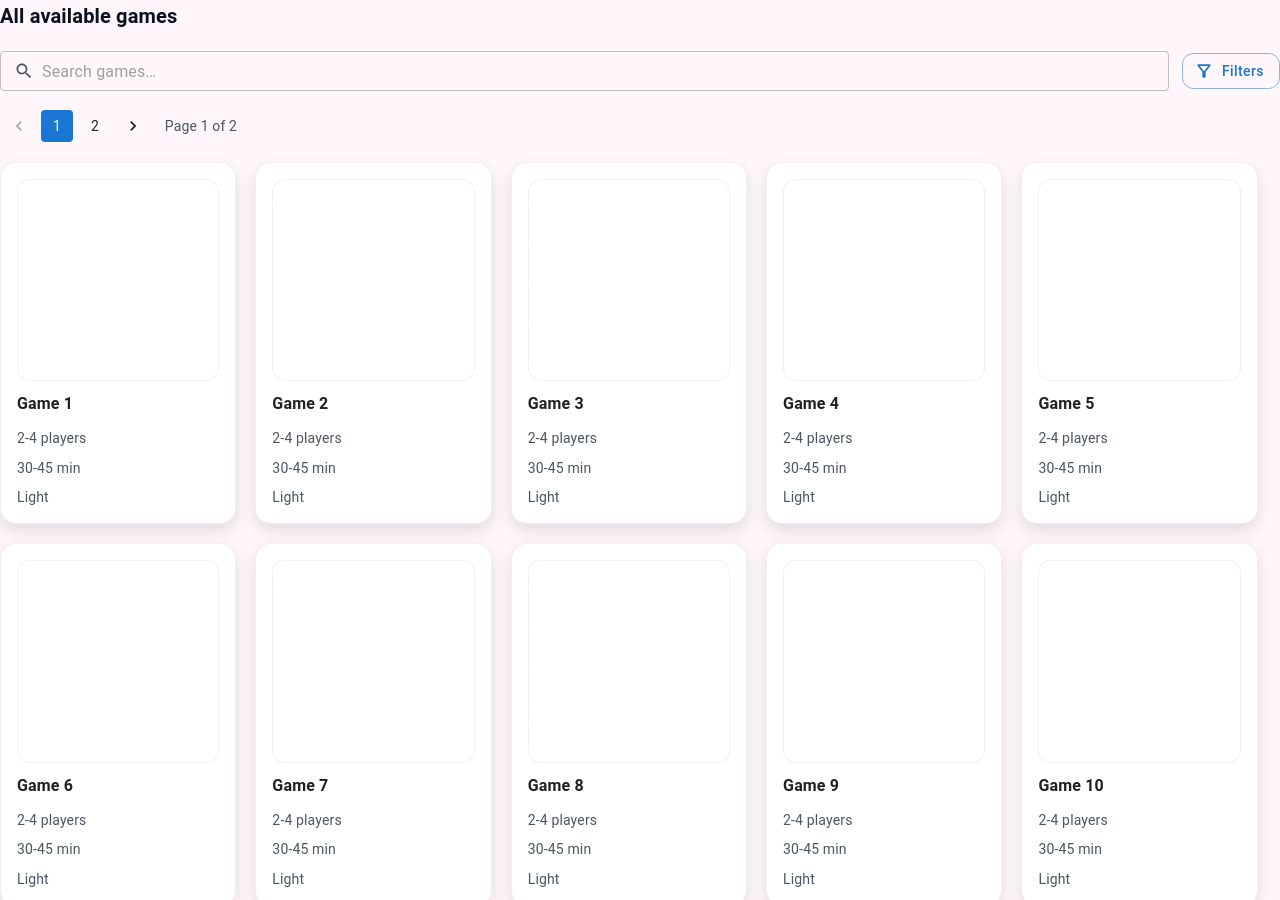
Test case: GameListGrid › pagination resets to page 1 when results shrink
Expected: the text "Page 1 of 2" is shown, [165, 116, 237, 136]
Click the button named "Go to page 2".
click(95, 126)  # box [79, 110, 111, 142]
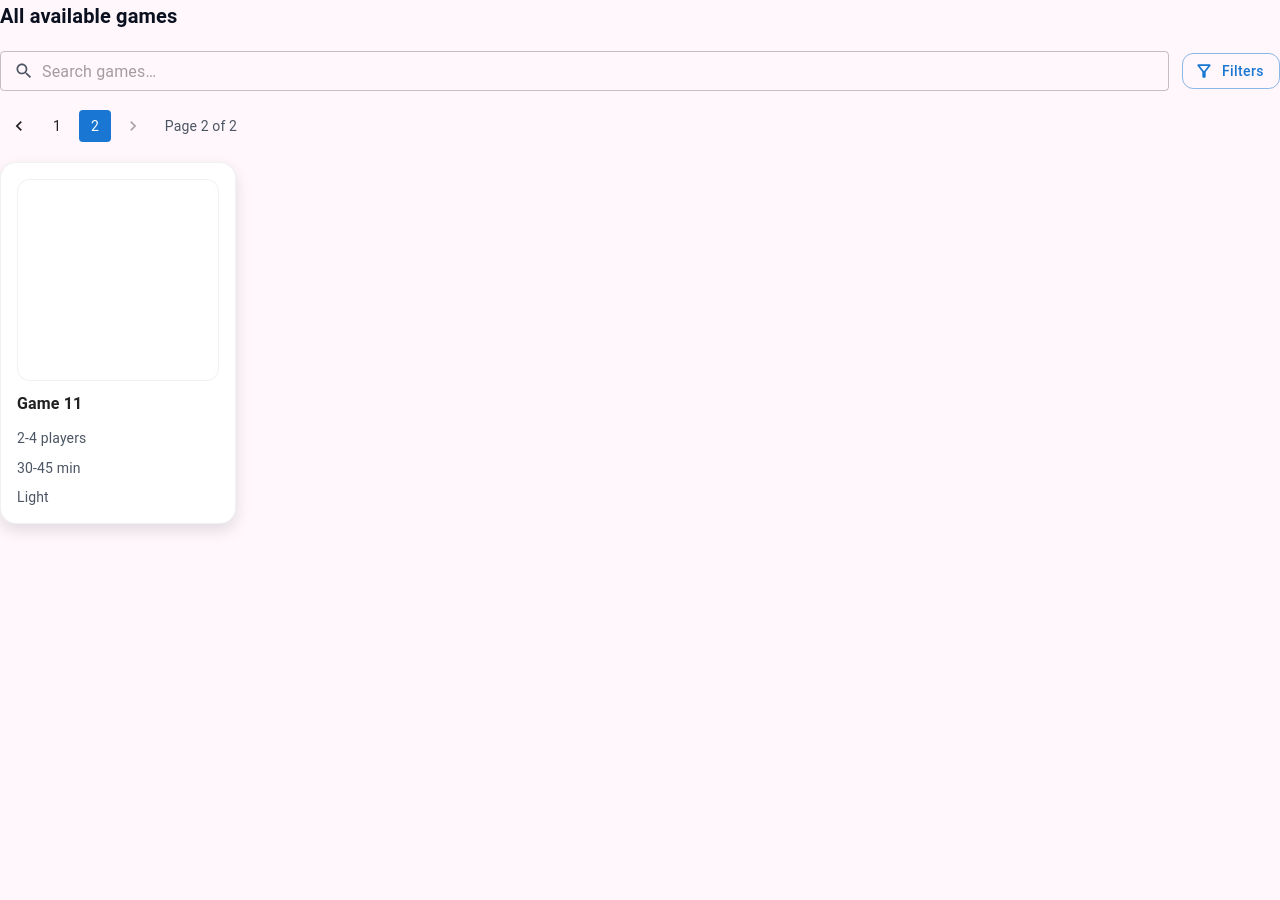
Result: the text "Page 2 of 2" is shown at [165, 116, 237, 136]
Type "Game 1" into the field with placeholder "Search games…".
click(606, 71); type("Game 1")  # box [42, 51, 1169, 91]
Wait 350 ms
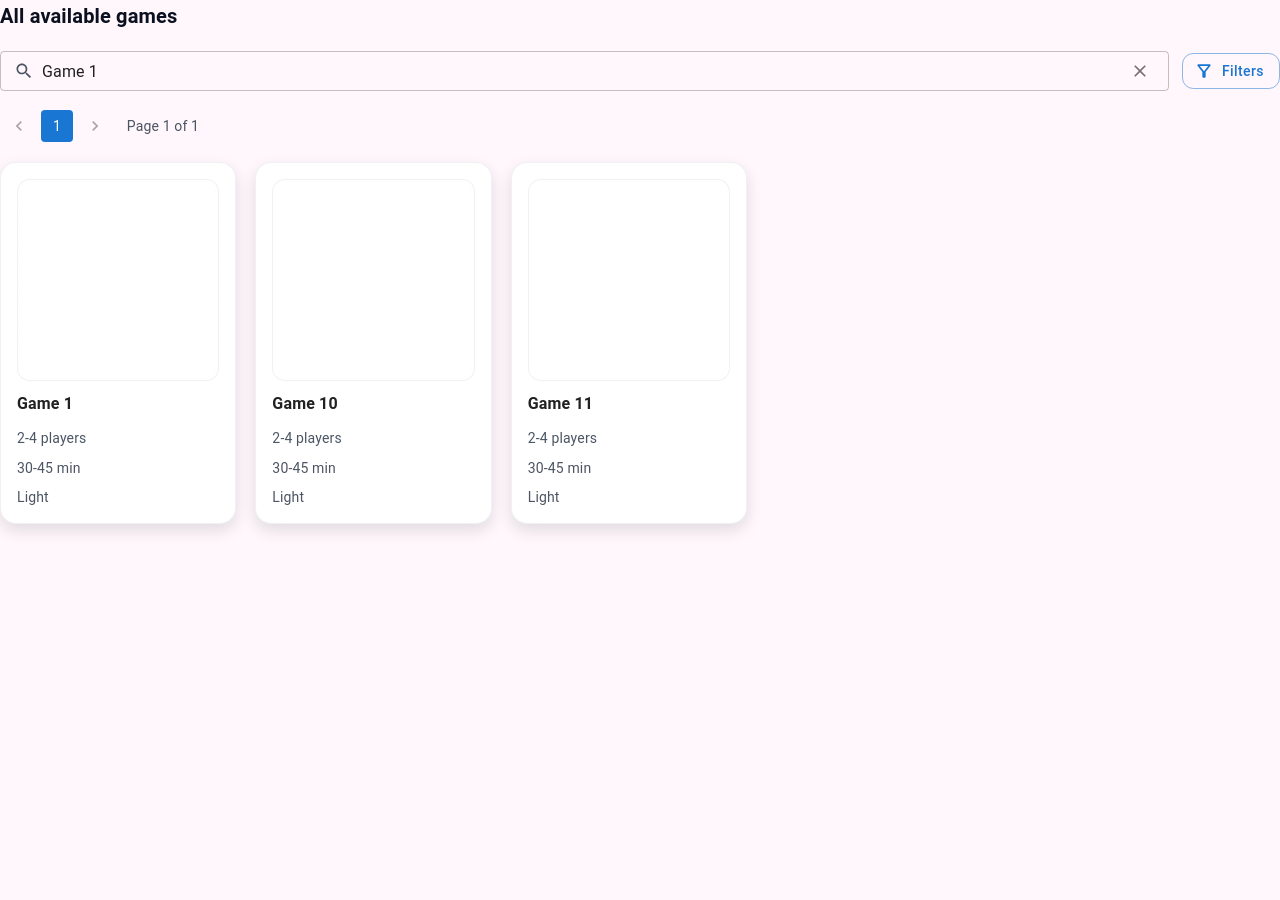
Expected: the heading "Game 1" is shown, [17, 394, 73, 413]
Result: the text "Page 1 of 1" is shown at [127, 116, 199, 136]
